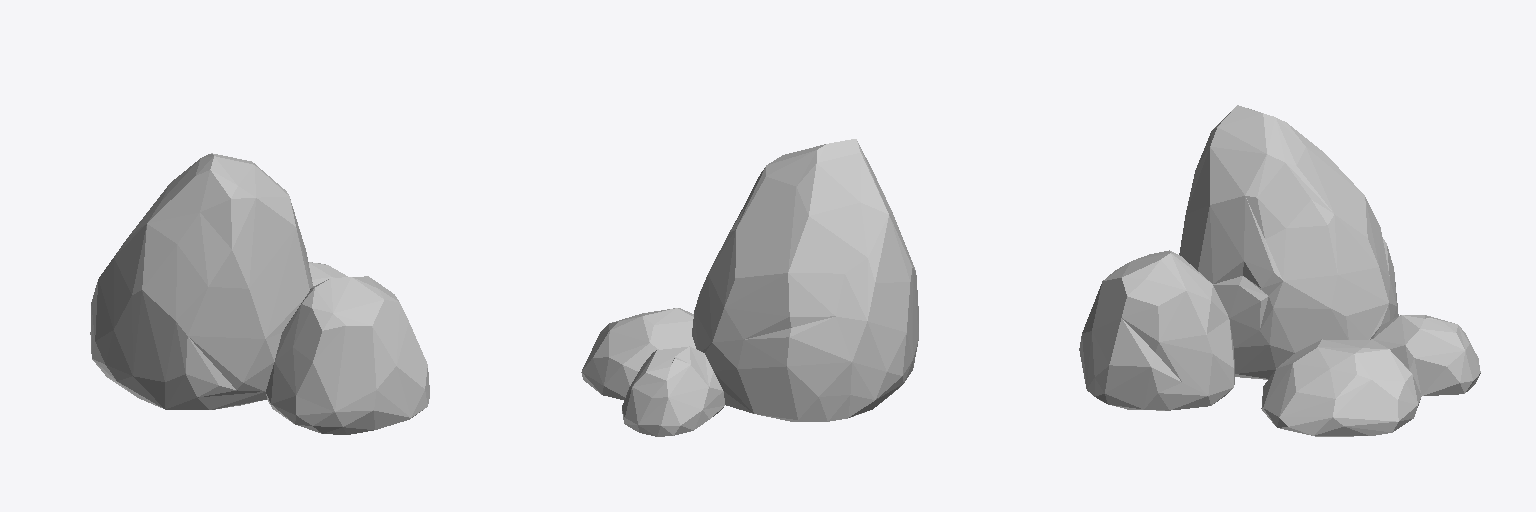
File: RocksOBJ.obj
The picture shows the model from 3 angles: view 1: azimuth 30°, elevation 25°; view 2: azimuth 150°, elevation 25°; view 3: azimuth 270°, elevation 25°; orthographic projection.
Parts seen in each view (by area): view 1: defaultMaterial; view 2: defaultMaterial; view 3: defaultMaterial.
Part boxes in pixels (bbox=[...]): defaultMaterial: bbox=[90, 153, 429, 434]; defaultMaterial: bbox=[581, 139, 918, 436]; defaultMaterial: bbox=[1079, 105, 1480, 436].
Size of the model in its own units: 1.64 by 1.3 by 2.